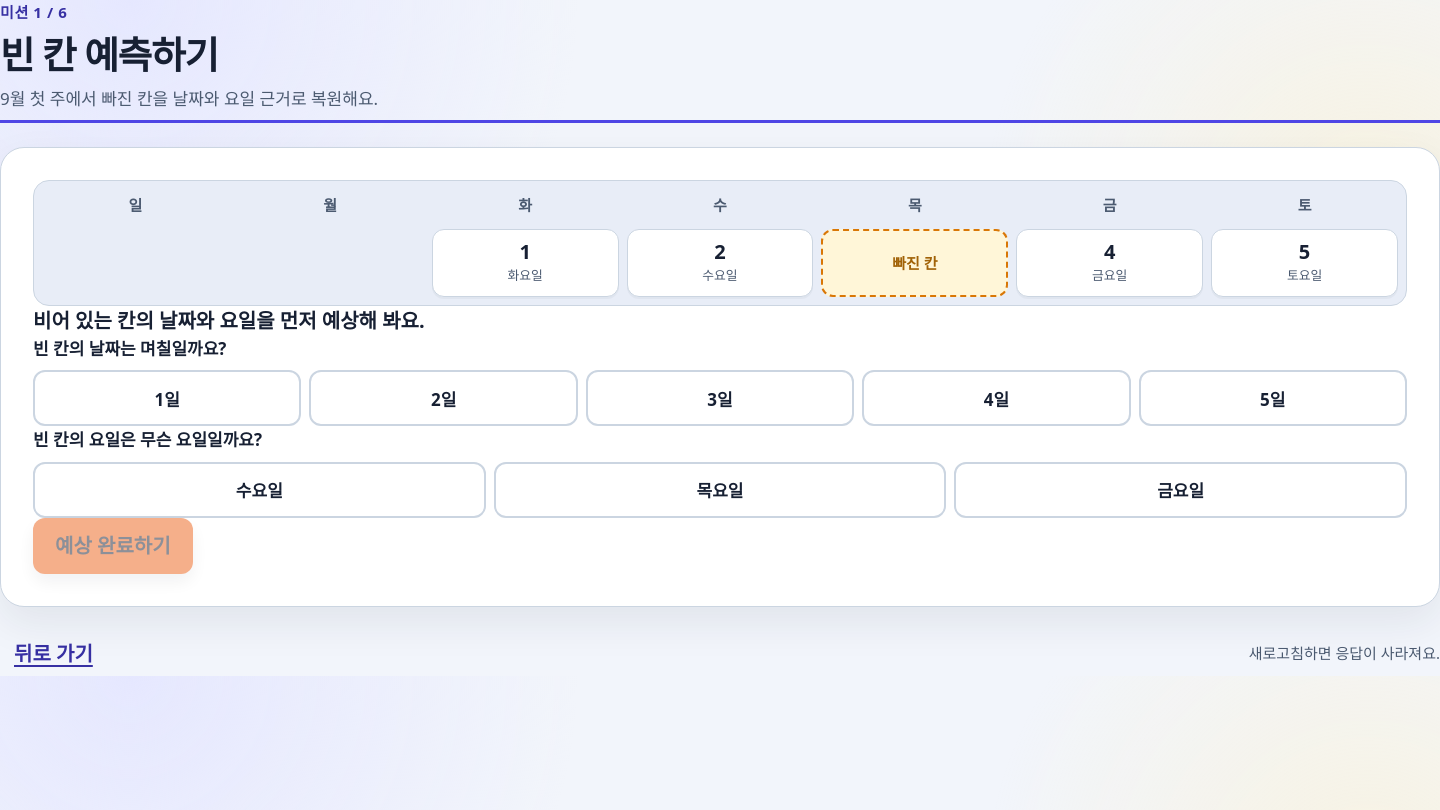
빈 칸 예측 단계 (calendar-gap-01) › 날짜와 요일을 예상해 제출하면 근거와 함께 통과한다
The width and height of the screenshot is (1440, 810).
Click the button "3일" at (720, 398), box [586, 370, 854, 426]
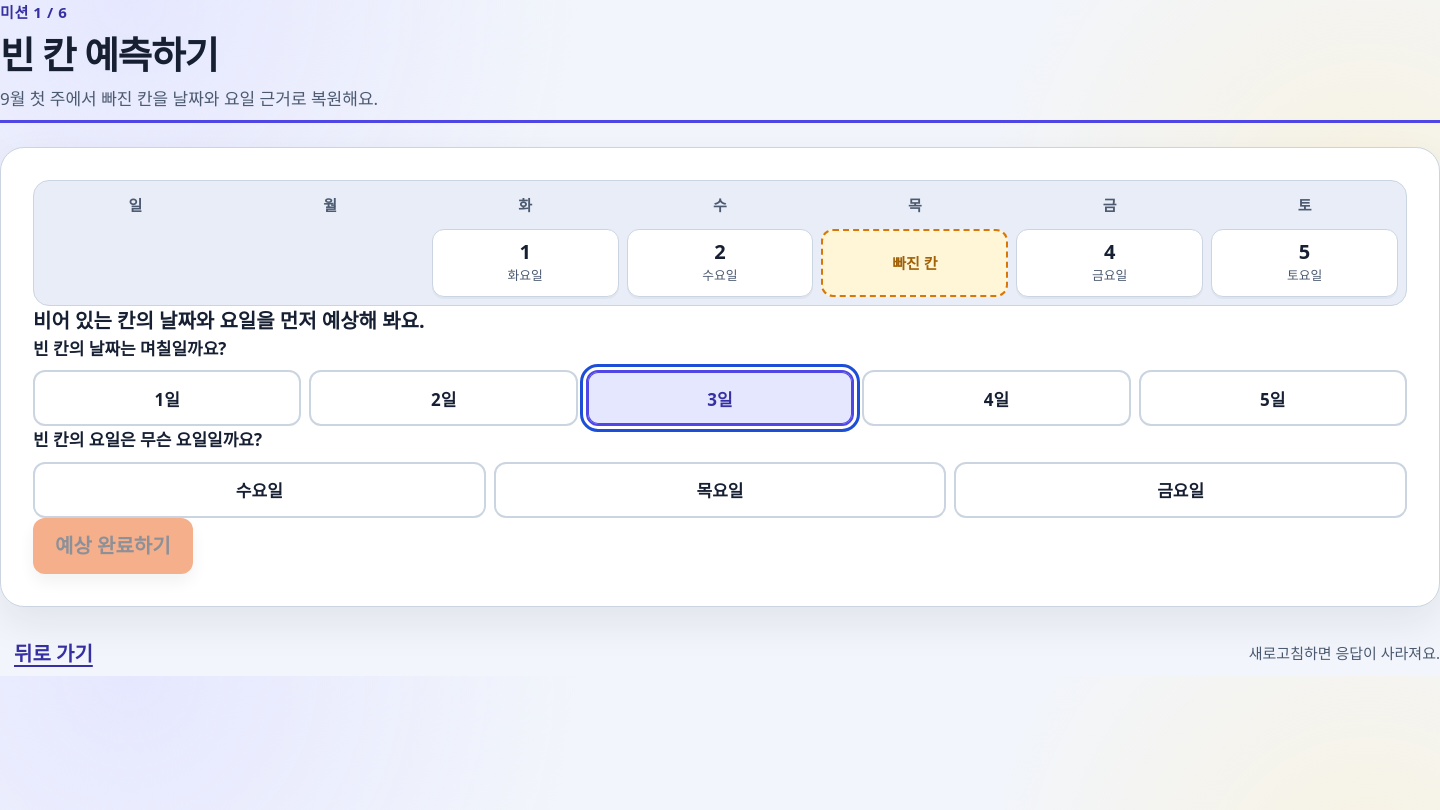
Click the button "목요일" at (720, 490), box [494, 462, 946, 518]
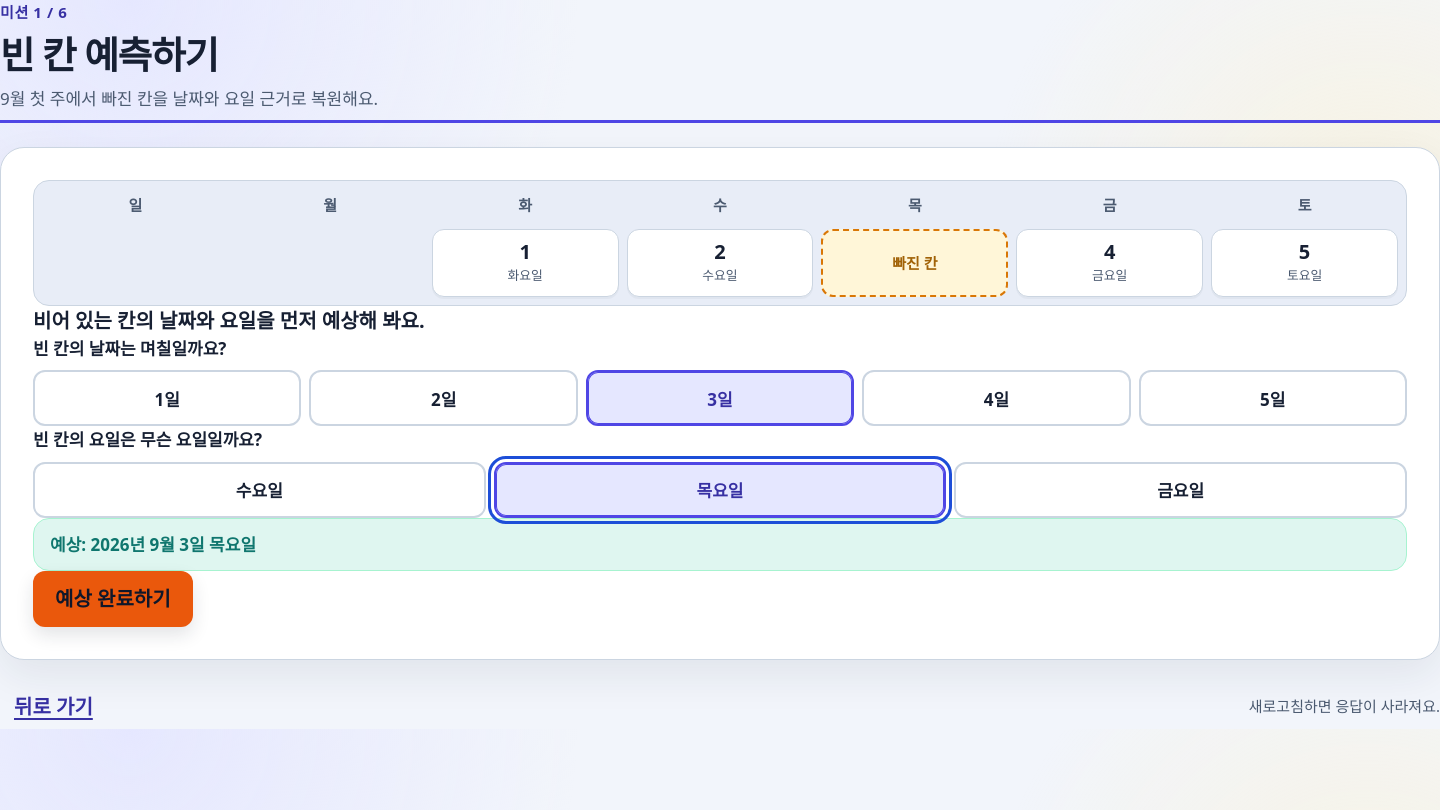
Click the button "예상 완료하기" at (113, 599), box [33, 571, 193, 627]
(page scrolled)
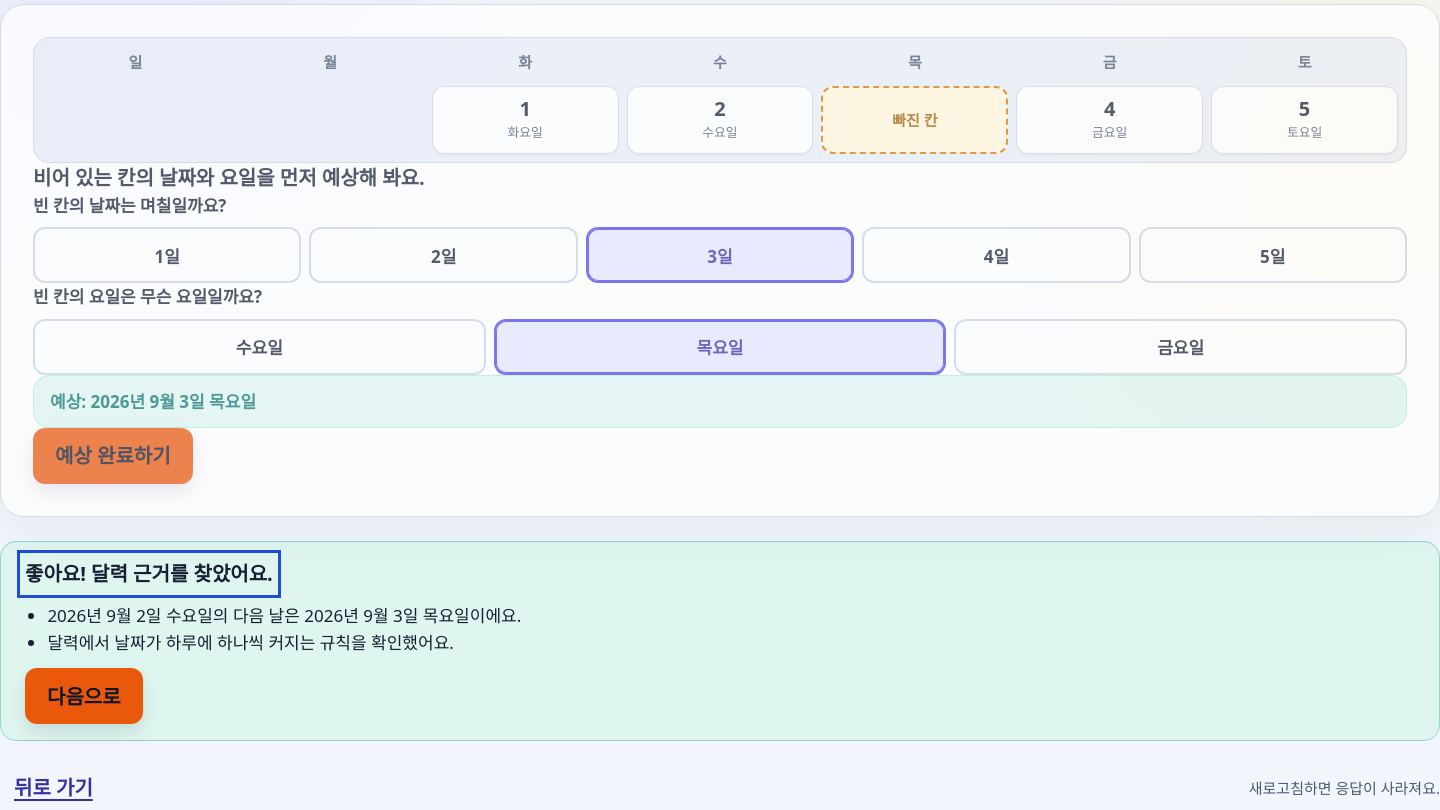
Expected: the heading "좋아요! 달력 근거를 찾았어요." is shown, [25, 558, 273, 590]
Expected: the button "다음으로" is enabled
Click the button "다음으로" at (84, 696), box [25, 668, 143, 724]
(page scrolled)
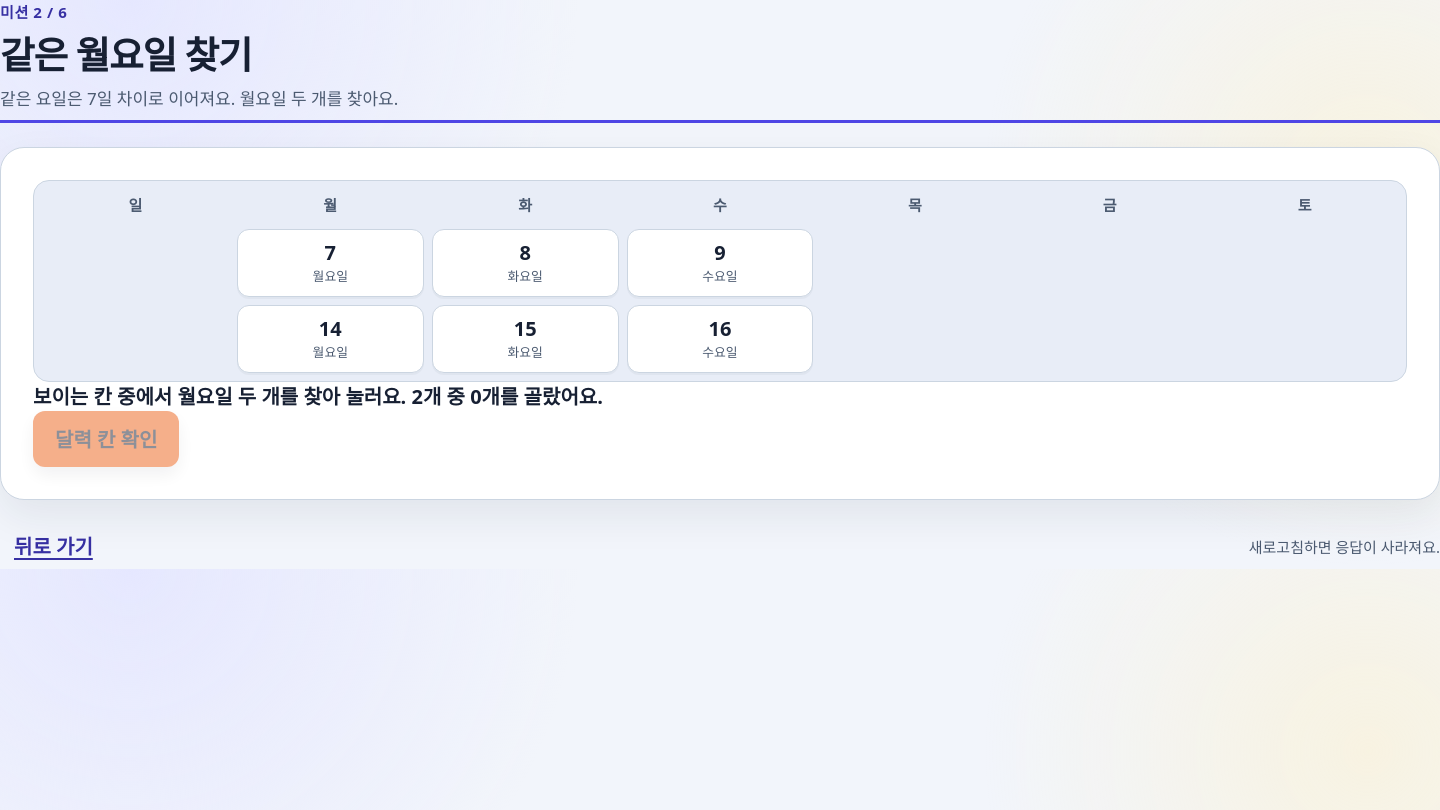
Expected: the heading "같은 월요일 찾기" is shown, [0, 29, 251, 80]
